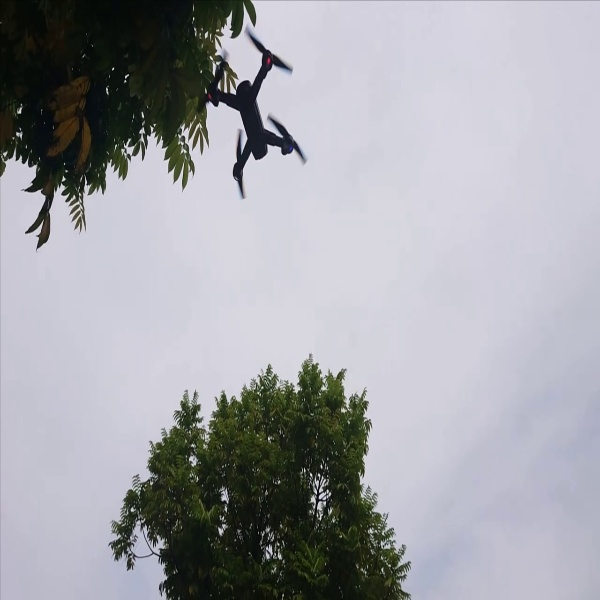drone: (187, 27, 311, 199)
